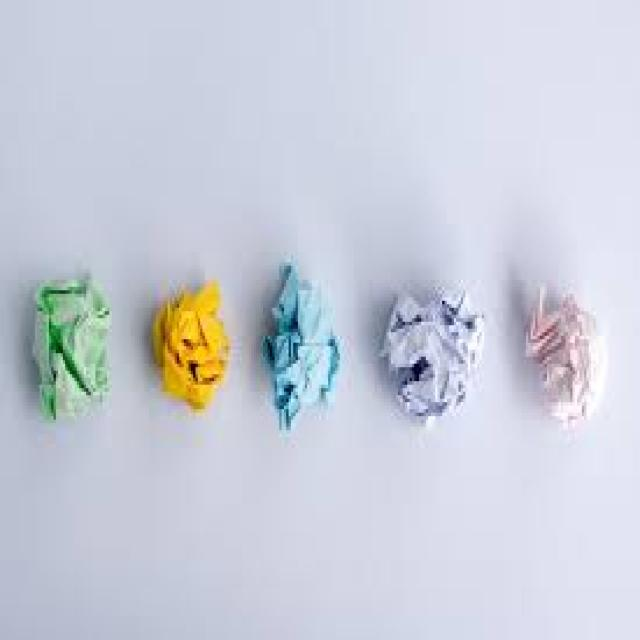crampled paper: (526, 287, 595, 420)
